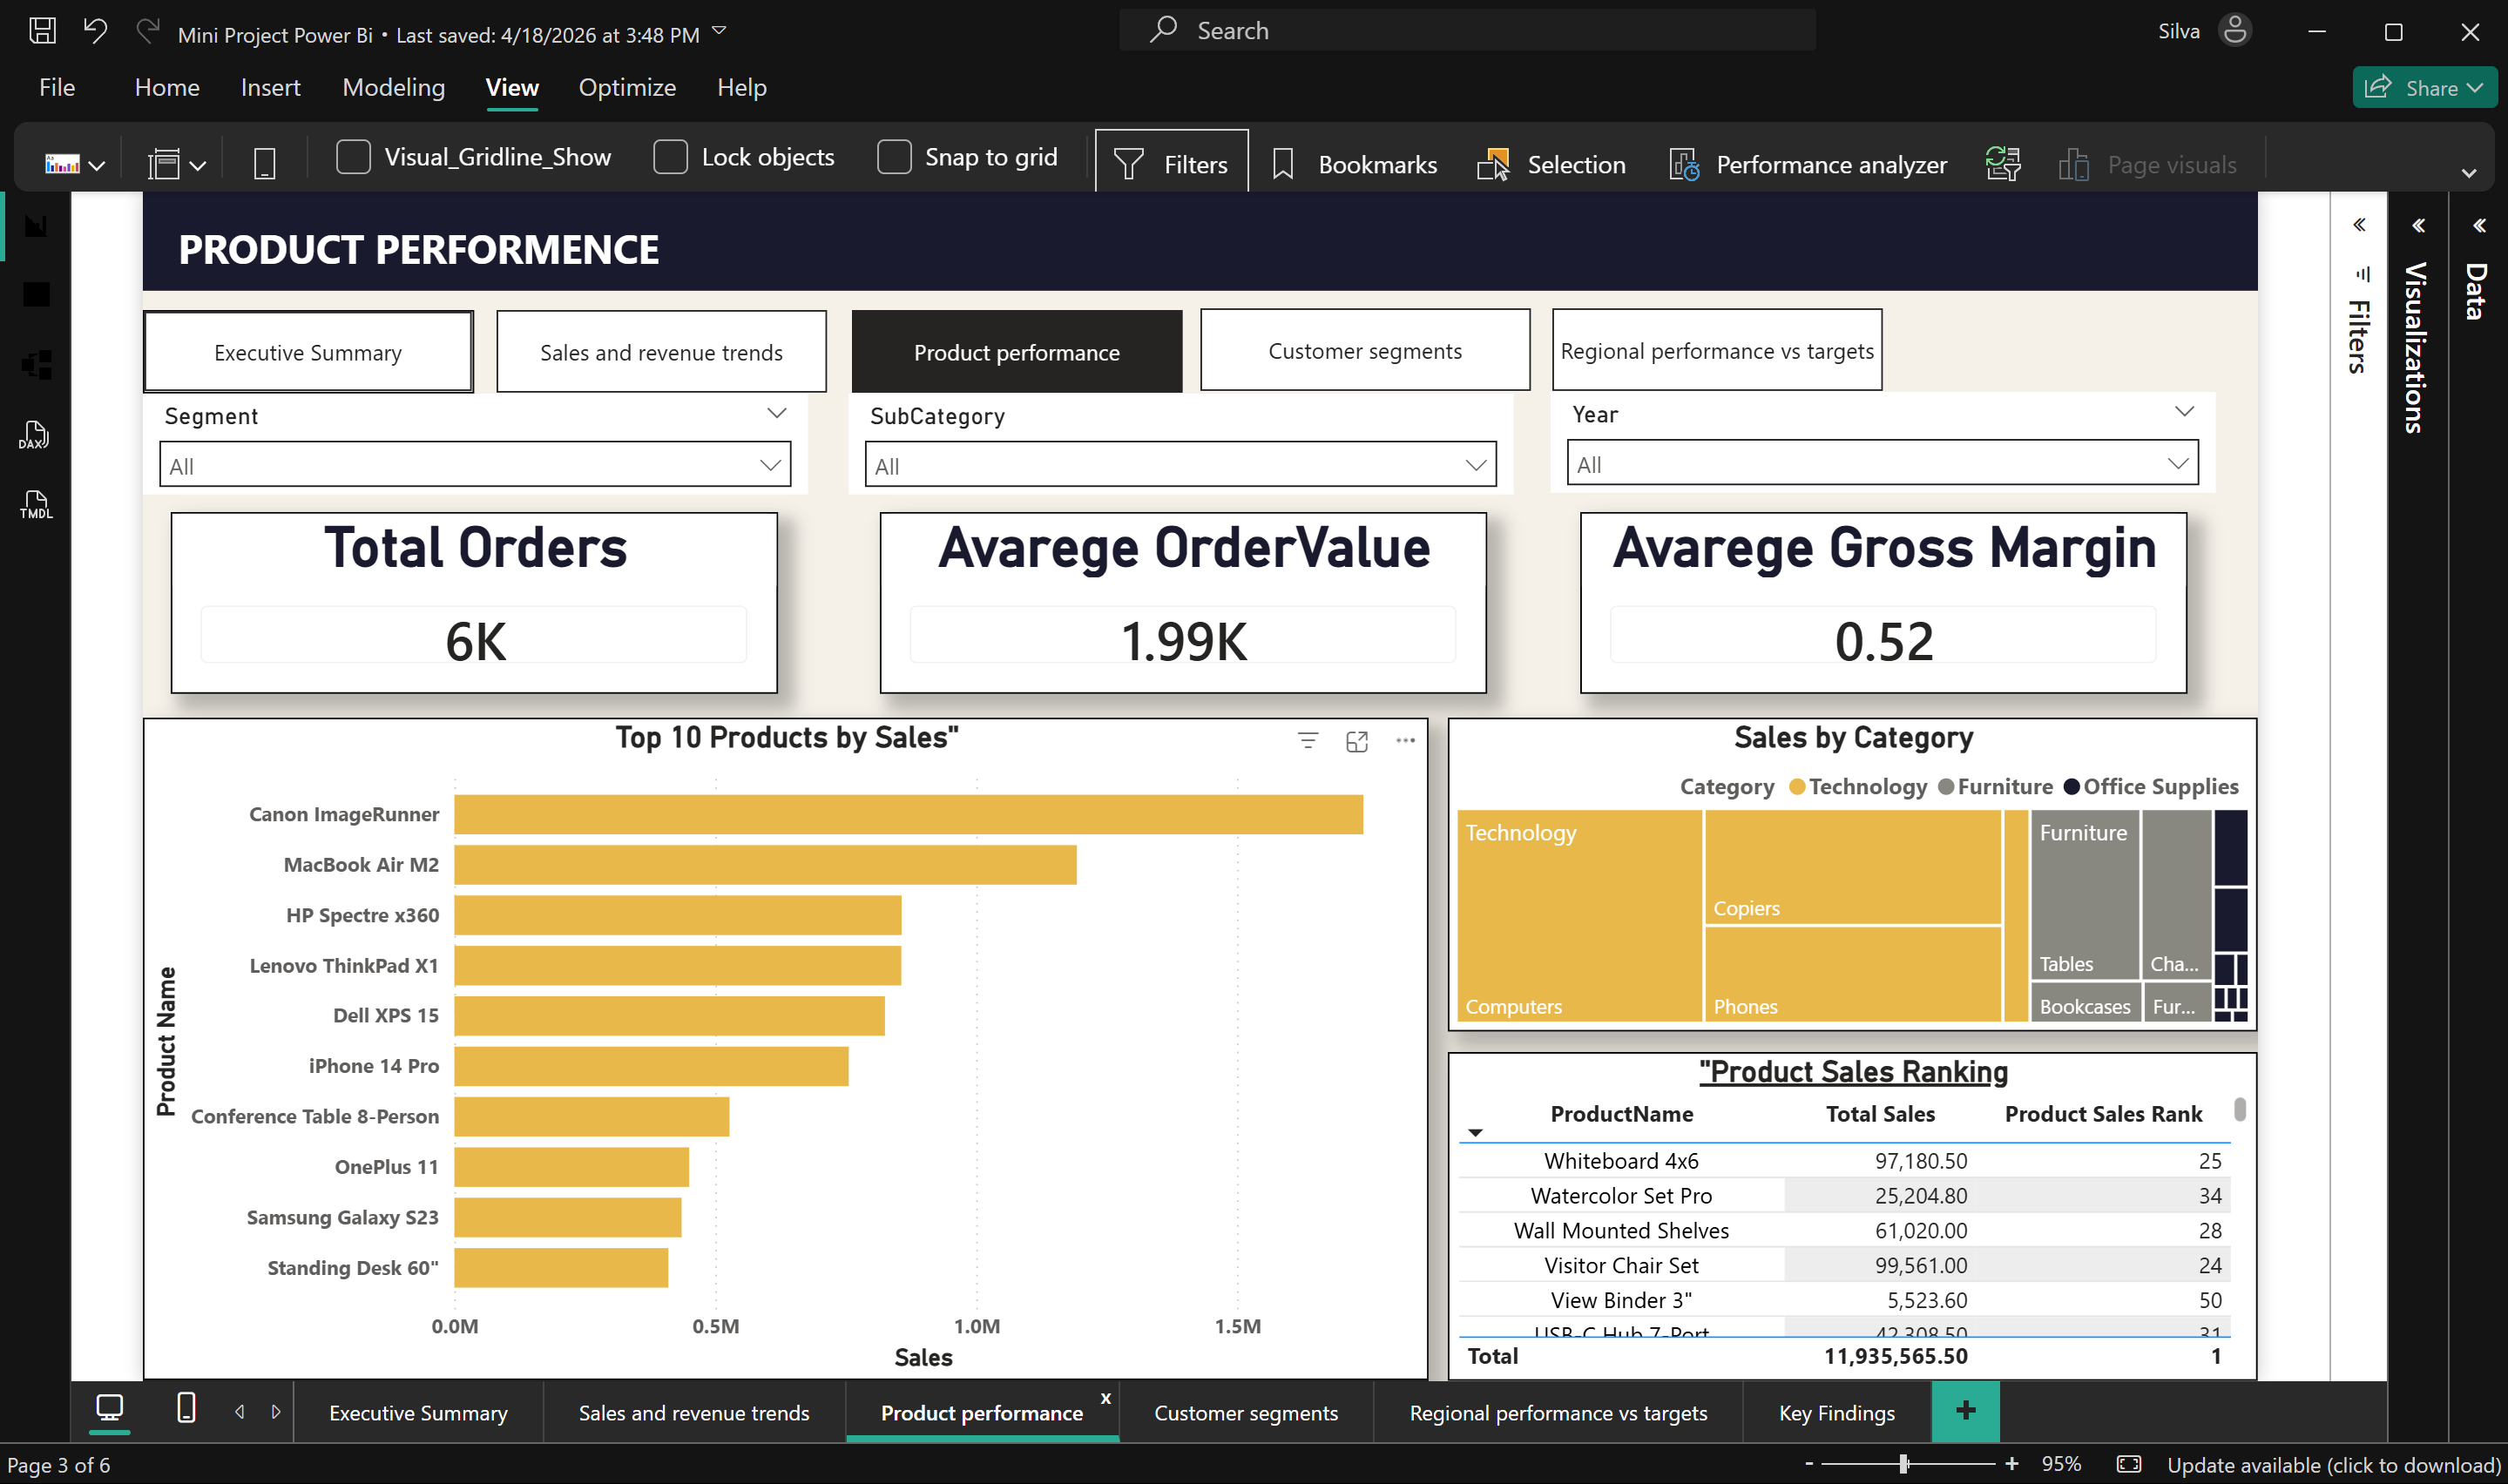

The page's visual inventory and layout, read from the dashboard file:
{"tool":"powerbi","page":{"name":"Product performance","canvas":[1280,720],"ordinal":2},"visuals":[{"type":"shape","box":[0,0,1280,60],"z":0},{"type":"pageNavigator","box":[0,72,200.6,50.5],"z":1000},{"type":"pageNavigator","box":[214.4,72,200.6,50.5],"z":2000},{"type":"pageNavigator","box":[428.7,72,200.6,50.5],"z":3000},{"type":"pageNavigator","box":[640,70.4,200.6,50.5],"z":4000},{"type":"pageNavigator","box":[852.8,70.4,200.6,50.5],"z":5000},{"type":"textbox","box":[0,12.2,333.8,47.5],"z":6000},{"type":"slicer","fields":{"Values":["Customers.Segment"]},"box":[0,122.5,402.7,61.2],"z":7000},{"type":"slicer","fields":{"Values":["Products.SubCategory"]},"box":[427.2,122.5,402.7,61.2],"z":8000},{"type":"slicer","fields":{"Values":["Date Table.Year"]},"box":[851.3,121,402.7,61.2],"z":9000},{"type":"cardVisual","title":"Total Orders","fields":{"Data":["Key Measures.Total Orders"]},"box":[16.8,194.4,367.5,110.2],"z":10000},{"type":"cardVisual","title":"Avarege OrderValue","fields":{"Data":["Key Measures.Avg Order Value"]},"box":[445.6,194.4,367.5,110.2],"z":11000},{"type":"cardVisual","title":"Avarege Gross Margin","fields":{"Data":["Avg(Products.Gross Margin %)"]},"box":[869.7,194.4,367.5,110.2],"z":12000},{"type":"barChart","title":"Top 10 Products by Sales\"","fields":{"Y":["Key Measures.Total Sales"],"Category":["Products.ProductName"]},"box":[0,318.5,777.8,401.1],"z":13000},{"type":"treemap","title":"Sales by Category","fields":{"Group":["Products.Category"],"Details":["Products.SubCategory"],"Values":["Key Measures.Total Sales"]},"box":[790,318.5,490,189.9],"z":14000},{"type":"tableEx","title":"\"Product Sales Ranking","fields":{"Values":["Products.ProductName","Key Measures.Total Sales","Key Measures.Product Sales Rank"]},"box":[790,520.6,490,199],"z":15000}]}

Visuals, with their boxes on the page's 1280x720 design canvas (x1, y1, x2, y2). These are canvas units, not pixel positions in the 2508x1484 screenshot, which may show the page scaled, cropped or inside an application window:
shape: bbox(0, 0, 1280, 60)
pageNavigator: bbox(0, 72, 201, 122)
pageNavigator: bbox(214, 72, 415, 122)
pageNavigator: bbox(429, 72, 629, 122)
pageNavigator: bbox(640, 70, 841, 121)
pageNavigator: bbox(853, 70, 1053, 121)
textbox: bbox(0, 12, 334, 60)
slicer - Customers.Segment: bbox(0, 122, 403, 184)
slicer - Products.SubCategory: bbox(427, 122, 830, 184)
slicer - Date Table.Year: bbox(851, 121, 1254, 182)
"Total Orders" cardVisual: bbox(17, 194, 384, 305)
"Avarege OrderValue" cardVisual: bbox(446, 194, 813, 305)
"Avarege Gross Margin" cardVisual: bbox(870, 194, 1237, 305)
"Top 10 Products by Sales"" barChart: bbox(0, 318, 778, 720)
"Sales by Category" treemap: bbox(790, 318, 1280, 508)
""Product Sales Ranking" tableEx: bbox(790, 521, 1280, 720)
